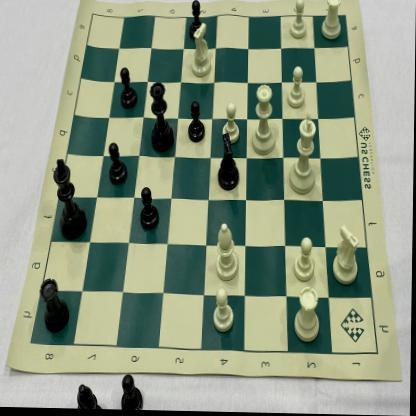black-king: (52, 155, 93, 244)
black-knight: (216, 133, 243, 193)
black-pawn: (137, 184, 161, 233), (108, 140, 131, 190), (117, 67, 142, 111), (186, 100, 208, 146), (186, 0, 207, 42)
black-queen: (148, 79, 176, 156)
black-rook: (40, 275, 73, 335)
white-bishop: (215, 219, 244, 284)
white-king: (287, 110, 321, 196)
white-knight: (332, 222, 366, 286), (188, 22, 217, 79)
white-pawn: (212, 285, 238, 336), (292, 236, 318, 285), (219, 101, 244, 147), (286, 0, 311, 43), (286, 65, 307, 114)
white-queen: (250, 83, 279, 156)
white-rook: (293, 286, 324, 346), (319, 0, 346, 42)
